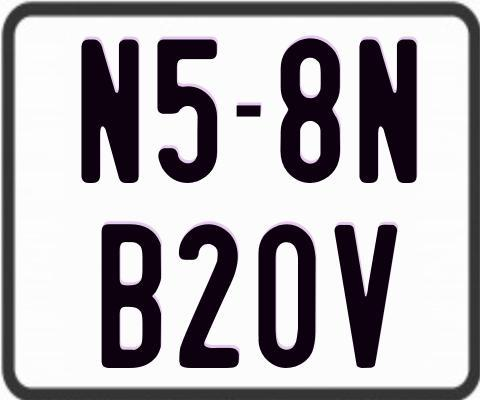0: (257, 224, 317, 371)
2: (178, 223, 244, 371)
5: (156, 37, 219, 183)
8: (278, 37, 340, 186)
B: (100, 222, 162, 370)
N: (79, 36, 143, 184), (356, 37, 416, 181)
V: (333, 224, 399, 373)
